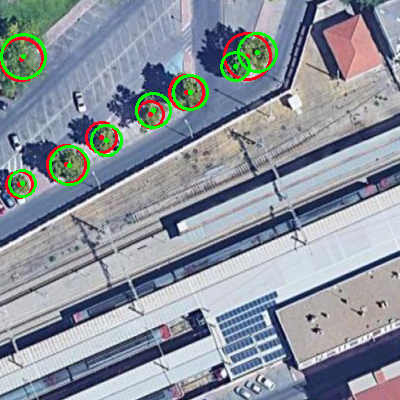tree: (1, 11, 46, 102), (46, 146, 92, 185), (238, 32, 276, 73), (173, 70, 207, 114), (136, 89, 170, 132), (91, 123, 122, 158), (221, 51, 249, 82), (8, 170, 36, 196)
